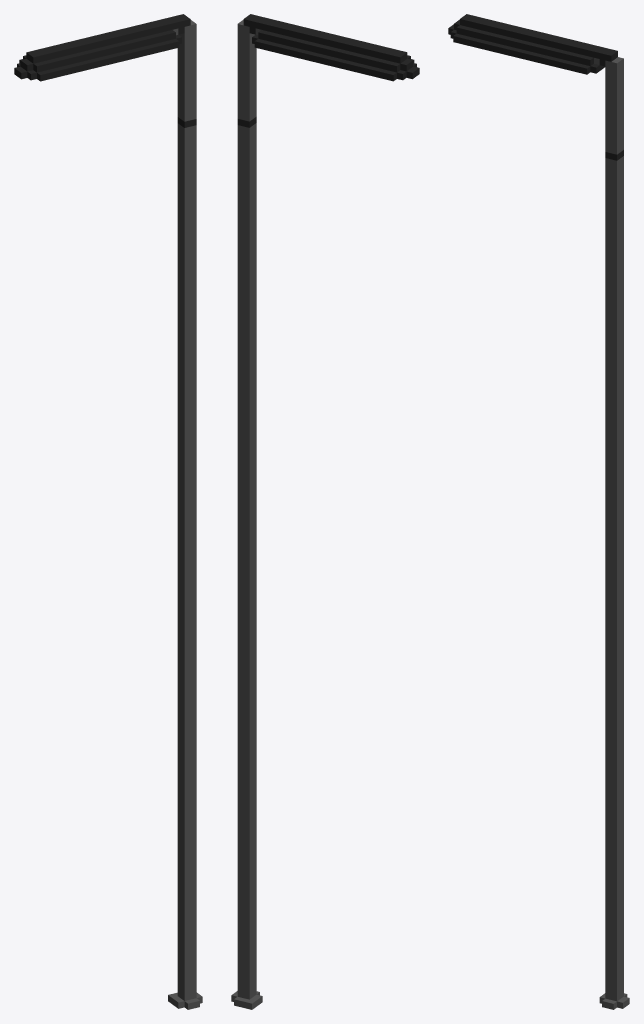
File: lampOne.glb
3 views of the same model, side by side, from view 1: azimuth 30°, elevation 25°; view 2: azimuth 150°, elevation 25°; view 3: azimuth 330°, elevation 25° (orthographic). The views are drawn at different scales.
Parts seen in each view (by area): view 1: ObjObject; view 2: ObjObject; view 3: ObjObject.
Boxes of the visible parts, <box> form: ObjObject: <box>14,14,202,1009</box>; ObjObject: <box>231,14,419,1009</box>; ObjObject: <box>448,14,629,1009</box>.
Bounding box in the file's own units: 3 × 15.6 × 0.6.
2 materials, 1 textured.
